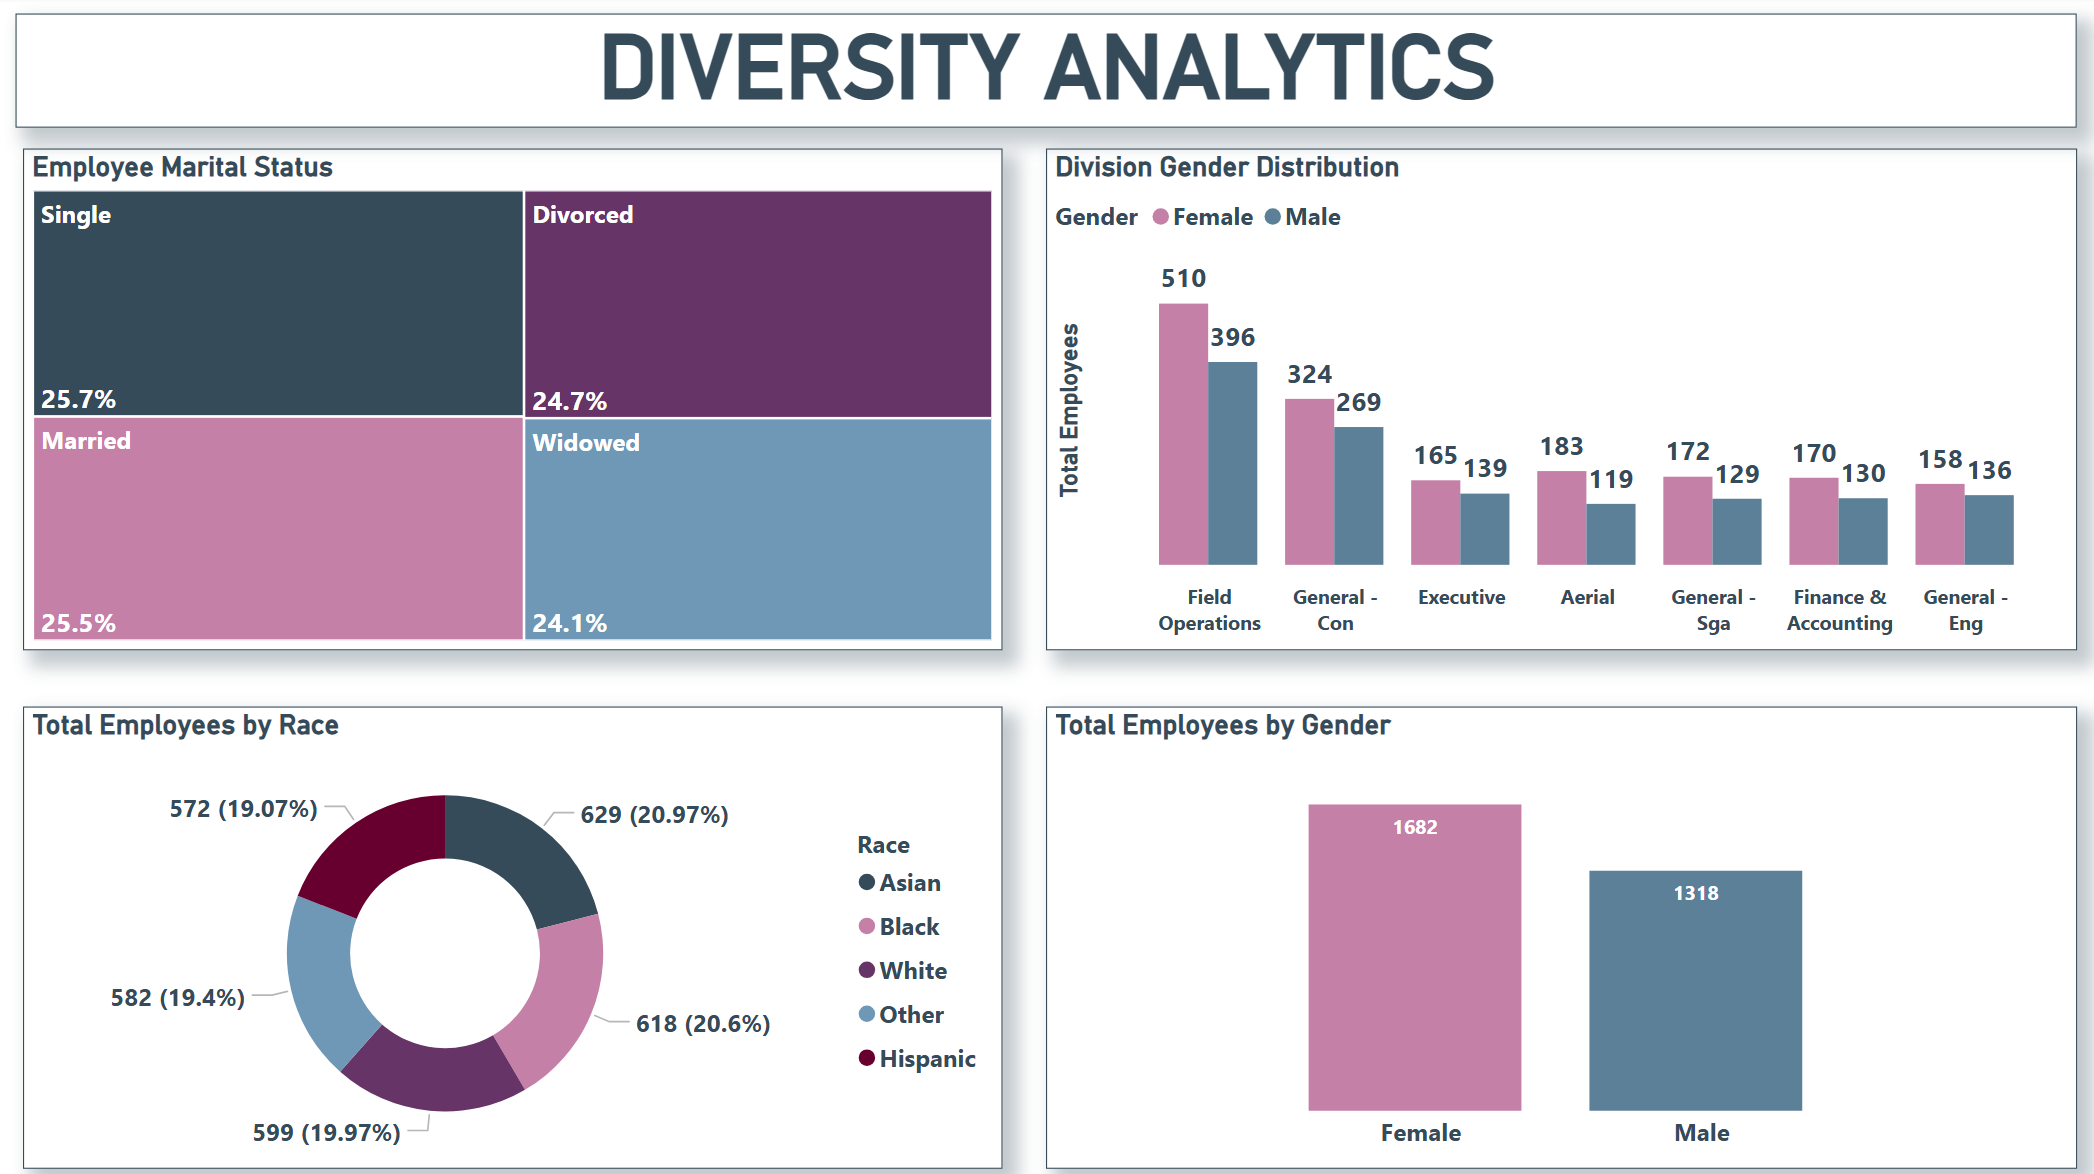

The page's visual inventory and layout, read from the dashboard file:
{"tool":"powerbi","page":{"name":"DEI Analysis","canvas":[1280,720],"ordinal":2},"visuals":[{"type":"donutChart","title":"Total Employees by Race","fields":{"Category":["DIM_EMPLOYEE.RaceDesc"],"Y":["KPI_TABLE.Total Employees"]},"box":[18.5,431,594.4,280.4],"z":0},{"type":"clusteredColumnChart","title":"Division Gender Distribution","fields":{"Y":["KPI_TABLE.Total Employees"],"Series":["DIM_EMPLOYEE.GenderCode"],"Category":["DIM_ORGANIZATION.Division"]},"box":[639.6,91.5,625.7,304.7],"z":1000},{"type":"treemap","title":"Employee Marital Status","fields":{"Group":["DIM_EMPLOYEE.MaritalDesc"],"Values":["KPI_TABLE.Percentage_of_Total"]},"box":[18.5,91.5,594.4,304.7],"z":2000},{"type":"clusteredColumnChart","title":"Total Employees by Gender","fields":{"Y":["KPI_TABLE.Total Employees"],"Category":["DIM_EMPLOYEE.GenderCode"]},"box":[639.6,431,625.7,280.4],"z":3000},{"type":"textbox","title":"DIVERSITY ANALYTICS","box":[13.9,10.4,1251.4,69.5],"z":4000}]}

Visuals, with their boxes in screenshot pixels (x1, y1, x2, y2), scaled from the page's 1280x720 canvas onto the 2094x1174 screenshot:
"Total Employees by Race" donutChart: 30, 703, 1003, 1160
"Division Gender Distribution" clusteredColumnChart: 1046, 149, 2070, 646
"Employee Marital Status" treemap: 30, 149, 1003, 646
"Total Employees by Gender" clusteredColumnChart: 1046, 703, 2070, 1160
"DIVERSITY ANALYTICS" textbox: 23, 17, 2070, 130
